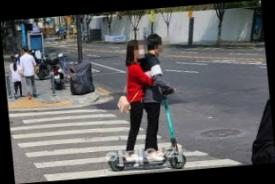multiple: (97, 32, 185, 174)
